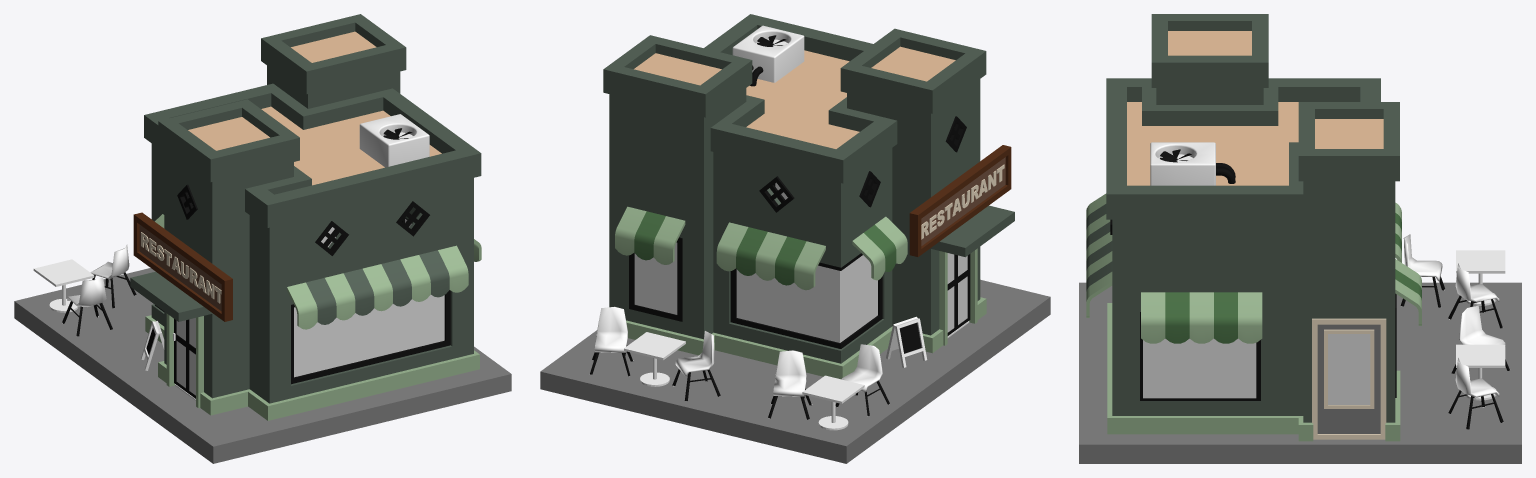
Rendered from restaurant.fbx.
3 renders of one model, left to right at view 1: azimuth 30°, elevation 25°; view 2: azimuth 150°, elevation 25°; view 3: azimuth 270°, elevation 25°, orthographic. The views are drawn at different scales.
Visible parts, largest first — view 1: Plane.240, Cube.009, Plane.243, Plane.048, Plane.265, Plane.210, Plane.250, Plane.214, Plane.065, Plane.209, Plane.001, Plane.233 (+1 smaller); view 2: Plane.240, Cube.009, Plane.243, Plane.065, Plane.265, Plane.250, Plane.212, Plane.210, Plane.001, Plane.213, Plane.214, Plane.211 (+3 smaller); view 3: Plane.240, Cube.009, Plane.243, Plane.273, Plane.265, Plane.065, Plane.228, Plane.214, Plane.229, Plane.001, Plane.048, Plane.250 (+1 smaller).
Part boxes in pixels (x1,y1,x2,y2): Plane.240: [144, 14, 481, 403]; Cube.009: [14, 268, 511, 463]; Plane.243: [176, 219, 444, 395]; Plane.048: [287, 245, 468, 329]; Plane.265: [145, 313, 479, 420]; Plane.210: [133, 212, 232, 321]; Plane.250: [155, 184, 450, 398]; Plane.214: [359, 114, 429, 167]; Plane.065: [62, 244, 136, 336]; Plane.209: [130, 271, 212, 321]; Plane.001: [33, 259, 94, 312]; Plane.233: [141, 232, 221, 303]; Plane.240: [603, 14, 986, 363]; Cube.009: [540, 279, 1050, 463]; Plane.243: [634, 182, 967, 342]; Plane.065: [590, 306, 889, 419]; Plane.265: [626, 248, 986, 379]; Plane.250: [629, 116, 970, 348]; Plane.212: [716, 222, 825, 290]; Plane.210: [909, 145, 1011, 256]; Plane.001: [624, 332, 864, 430]; Plane.213: [615, 206, 685, 264]; Plane.214: [732, 25, 804, 86]; Plane.211: [852, 216, 907, 280]; Plane.240: [1106, 14, 1399, 422]; Cube.009: [1079, 282, 1521, 463]; Plane.243: [1143, 334, 1370, 404]; Plane.273: [1141, 292, 1262, 343]; Plane.265: [1107, 303, 1400, 441]; Plane.065: [1400, 234, 1509, 429]; Plane.228: [1312, 318, 1386, 439]; Plane.214: [1150, 142, 1235, 185]; Plane.229: [1317, 324, 1380, 433]; Plane.001: [1456, 250, 1505, 400]; Plane.048: [1086, 193, 1112, 317]; Plane.250: [1110, 219, 1396, 401].
Bounding box in the file's own units: 0.6936 × 0.6072 × 0.801.
